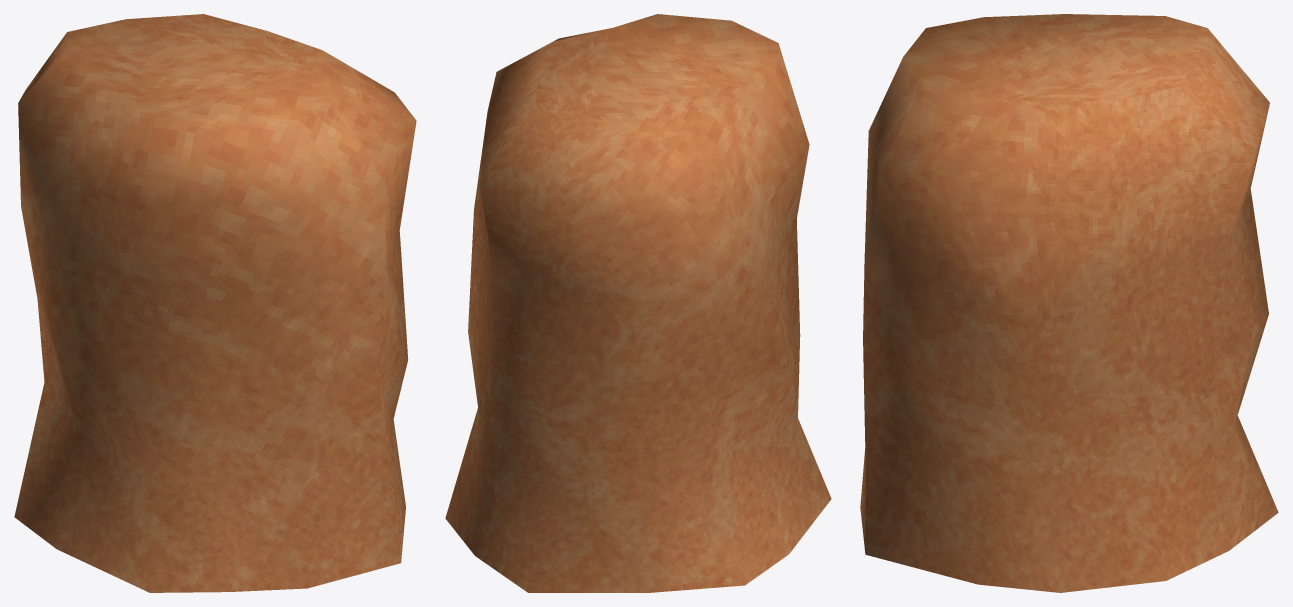
Rendered from Boulder1.glb.
3 views of the same model, side by side, from view 1: azimuth 30°, elevation 25°; view 2: azimuth 150°, elevation 25°; view 3: azimuth 270°, elevation 25° (orthographic).
Visible parts, largest first — view 1: Boulder; view 2: Boulder; view 3: Boulder.
Part boxes in pixels (x1,y1,x2,y2): Boulder: (14,14,416,592); Boulder: (445,14,831,592); Boulder: (860,14,1278,592).
Bounding box in the file's own units: 4.74 × 6.27 × 5.32.
Materials: 1 (1 with a texture image).
